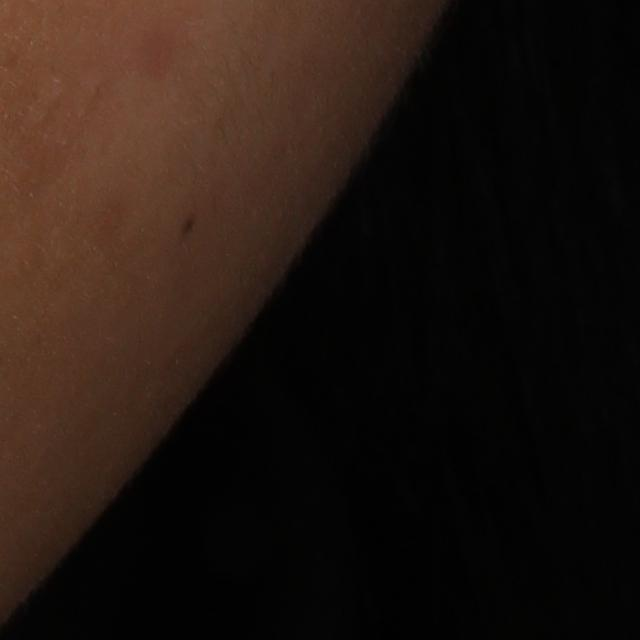nevus: (177, 211, 198, 239)
